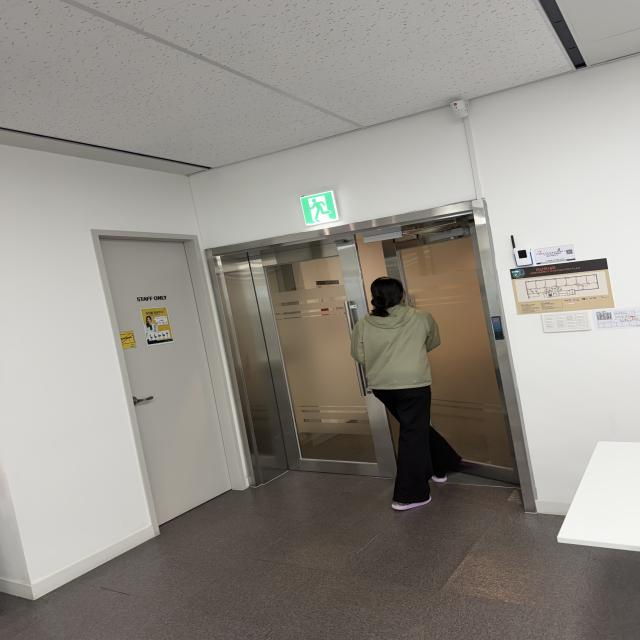rear_door: (249, 212, 522, 489)
